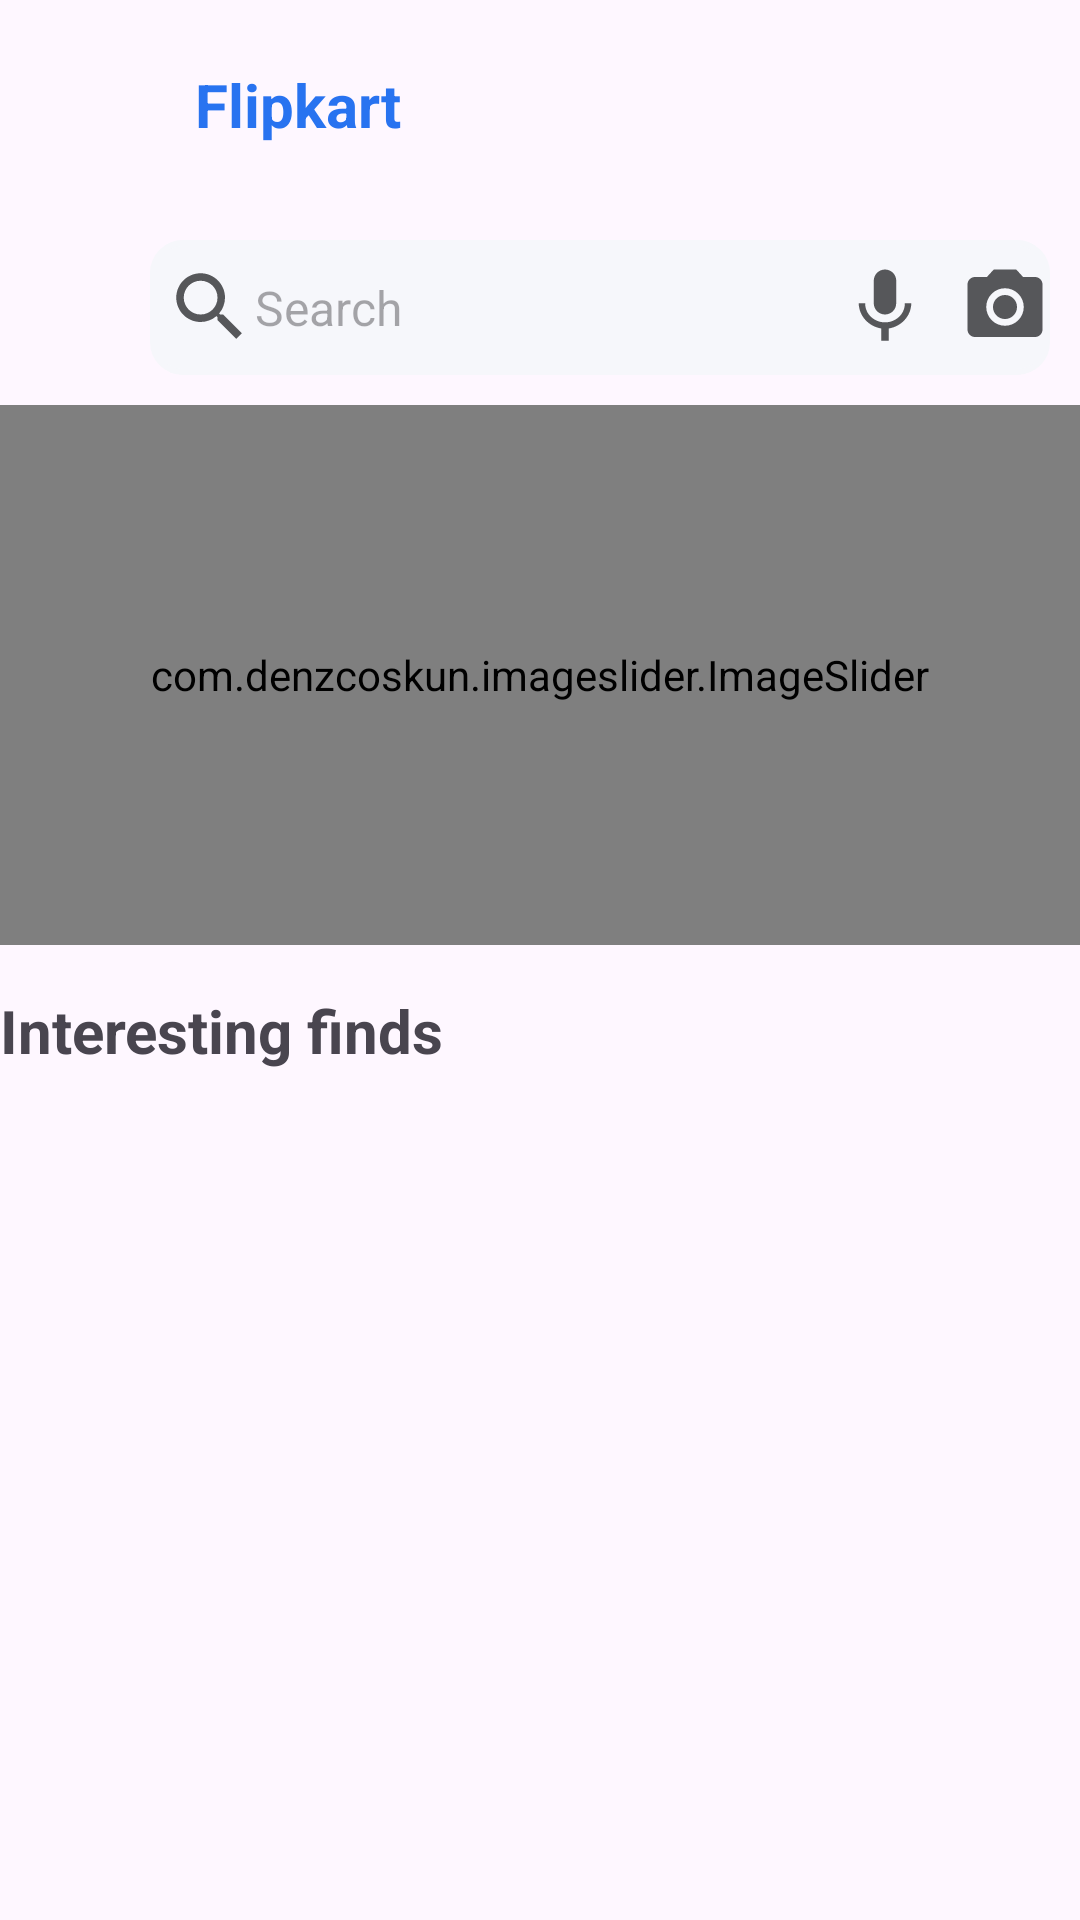

Locate icon controls on the screen. Image size 1080px x 1920px, boxes as (x1, y1, x2, y2).
camera: (967, 269, 1043, 337)
mic: (858, 269, 912, 341)
